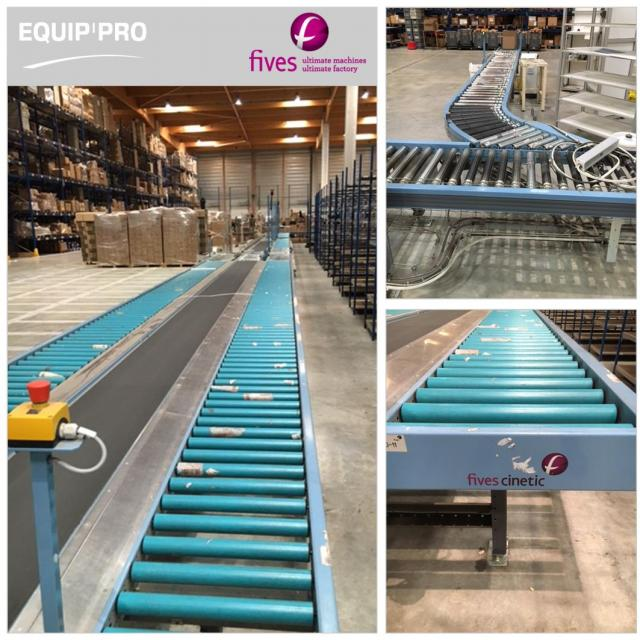Convoyeur: (91, 221, 340, 640), (0, 237, 249, 427), (392, 310, 640, 487), (383, 146, 637, 220), (434, 39, 585, 144)
